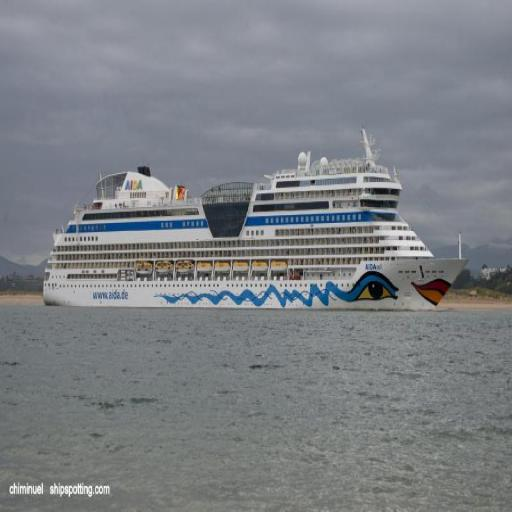cruises: (39, 125, 449, 317)
